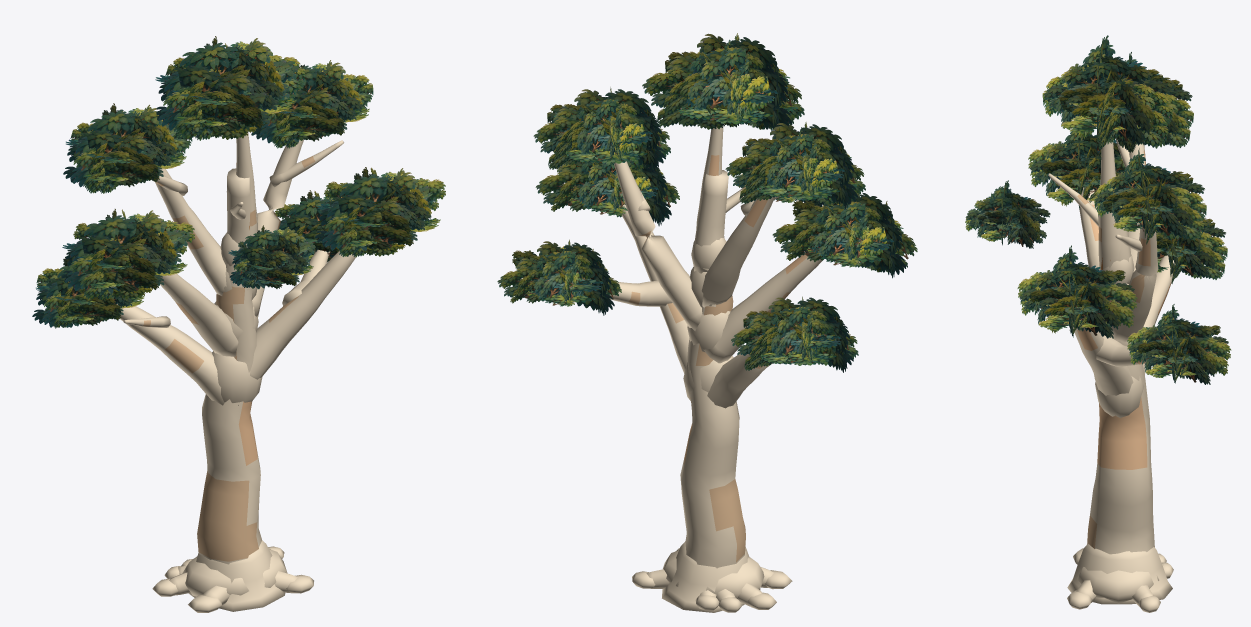
The model's file is TREE_EUCALYPTUS_001_v009_LOD_GAMEPLAY.glb.
3 views of the same model, side by side, from view 1: azimuth 30°, elevation 25°; view 2: azimuth 150°, elevation 25°; view 3: azimuth 270°, elevation 25° (orthographic). The views are drawn at different scales.
Visible parts, largest first — view 1: TREE_EUCALYPTUS_001_GAMEPLAY_AUTHORED_FOLIAGE_ISLANDS, TREE_EUCALYPTUS_001_GAMEPLAY_MAIN_TRUNK, TREE_EUCALYPTUS_001_GAMEPLAY_MID_RIGHT_SWEEP, TREE_EUCALYPTUS_001_GAMEPLAY_LOWER_LEFT_SWEEP, TREE_EUCALYPTUS_001_GAMEPLAY_MID_LEFT_ARCH, TREE_EUCALYPTUS_001_GAMEPLAY_SCULPTED_ROOT_COLLAR, TREE_EUCALYPTUS_001_GAMEPLAY_UPPER_LEFT_FORK, TREE_EUCALYPTUS_001_GAMEPLAY_BROAD_PLANTED_ROOT_MOUND, TREE_EUCALYPTUS_001_GAMEPLAY_UPPER_RIGHT_ARCH, TREE_EUCALYPTUS_001_GAMEPLAY_SCULPTED_FORK_SWELL_0, TREE_EUCALYPTUS_001_GAMEPLAY_CENTRAL_CROWN_FORK, TREE_EUCALYPTUS_001_GAMEPLAY_RIGHT_TOP_SUPPORT (+1 smaller); view 2: TREE_EUCALYPTUS_001_GAMEPLAY_AUTHORED_FOLIAGE_ISLANDS, TREE_EUCALYPTUS_001_GAMEPLAY_MAIN_TRUNK, TREE_EUCALYPTUS_001_GAMEPLAY_UPPER_RIGHT_ARCH, TREE_EUCALYPTUS_001_GAMEPLAY_UPPER_LEFT_FORK, TREE_EUCALYPTUS_001_GAMEPLAY_MID_LEFT_ARCH, TREE_EUCALYPTUS_001_GAMEPLAY_SCULPTED_ROOT_COLLAR, TREE_EUCALYPTUS_001_GAMEPLAY_LOWER_LEFT_SWEEP, TREE_EUCALYPTUS_001_GAMEPLAY_MID_RIGHT_SWEEP, TREE_EUCALYPTUS_001_GAMEPLAY_BROAD_PLANTED_ROOT_MOUND, TREE_EUCALYPTUS_001_GAMEPLAY_LOWER_RIGHT_REACH, TREE_EUCALYPTUS_001_GAMEPLAY_SCULPTED_FORK_SWELL_1, TREE_EUCALYPTUS_001_GAMEPLAY_CENTRAL_CROWN_FORK (+2 smaller); view 3: TREE_EUCALYPTUS_001_GAMEPLAY_AUTHORED_FOLIAGE_ISLANDS, TREE_EUCALYPTUS_001_GAMEPLAY_MAIN_TRUNK, TREE_EUCALYPTUS_001_GAMEPLAY_SCULPTED_ROOT_COLLAR, TREE_EUCALYPTUS_001_GAMEPLAY_UPPER_RIGHT_ARCH, TREE_EUCALYPTUS_001_GAMEPLAY_MID_RIGHT_SWEEP, TREE_EUCALYPTUS_001_GAMEPLAY_BROAD_PLANTED_ROOT_MOUND, TREE_EUCALYPTUS_001_GAMEPLAY_CENTRAL_CROWN_FORK, TREE_EUCALYPTUS_001_GAMEPLAY_SCULPTED_FORK_SWELL_0, TREE_EUCALYPTUS_001_GAMEPLAY_LOWER_LEFT_SWEEP, TREE_EUCALYPTUS_001_GAMEPLAY_MID_LEFT_ARCH, TREE_EUCALYPTUS_001_GAMEPLAY_LOWER_RIGHT_REACH, TREE_EUCALYPTUS_001_GAMEPLAY_CENTRE_BACK_SUPPORT (+2 smaller).
Part boxes in pixels (<box>): TREE_EUCALYPTUS_001_GAMEPLAY_AUTHORED_FOLIAGE_ISLANDS: <box>32,36,445,328</box>; TREE_EUCALYPTUS_001_GAMEPLAY_MAIN_TRUNK: <box>197,168,261,564</box>; TREE_EUCALYPTUS_001_GAMEPLAY_MID_RIGHT_SWEEP: <box>250,250,355,379</box>; TREE_EUCALYPTUS_001_GAMEPLAY_LOWER_LEFT_SWEEP: <box>117,304,238,405</box>; TREE_EUCALYPTUS_001_GAMEPLAY_MID_LEFT_ARCH: <box>160,273,238,356</box>; TREE_EUCALYPTUS_001_GAMEPLAY_SCULPTED_ROOT_COLLAR: <box>189,540,285,611</box>; TREE_EUCALYPTUS_001_GAMEPLAY_UPPER_LEFT_FORK: <box>155,168,226,295</box>; TREE_EUCALYPTUS_001_GAMEPLAY_BROAD_PLANTED_ROOT_MOUND: <box>182,549,287,596</box>; TREE_EUCALYPTUS_001_GAMEPLAY_UPPER_RIGHT_ARCH: <box>252,139,304,316</box>; TREE_EUCALYPTUS_001_GAMEPLAY_SCULPTED_FORK_SWELL_0: <box>212,351,262,402</box>; TREE_EUCALYPTUS_001_GAMEPLAY_CENTRAL_CROWN_FORK: <box>236,133,257,247</box>; TREE_EUCALYPTUS_001_GAMEPLAY_RIGHT_TOP_SUPPORT: <box>269,140,343,187</box>; TREE_EUCALYPTUS_001_GAMEPLAY_AUTHORED_FOLIAGE_ISLANDS: <box>497,33,917,372</box>; TREE_EUCALYPTUS_001_GAMEPLAY_MAIN_TRUNK: <box>680,170,745,568</box>; TREE_EUCALYPTUS_001_GAMEPLAY_UPPER_RIGHT_ARCH: <box>611,147,702,330</box>; TREE_EUCALYPTUS_001_GAMEPLAY_UPPER_LEFT_FORK: <box>701,197,774,307</box>; TREE_EUCALYPTUS_001_GAMEPLAY_MID_LEFT_ARCH: <box>703,252,822,363</box>; TREE_EUCALYPTUS_001_GAMEPLAY_SCULPTED_ROOT_COLLAR: <box>662,541,760,612</box>; TREE_EUCALYPTUS_001_GAMEPLAY_LOWER_LEFT_SWEEP: <box>707,353,772,408</box>; TREE_EUCALYPTUS_001_GAMEPLAY_MID_RIGHT_SWEEP: <box>614,200,689,373</box>; TREE_EUCALYPTUS_001_GAMEPLAY_BROAD_PLANTED_ROOT_MOUND: <box>663,550,764,598</box>; TREE_EUCALYPTUS_001_GAMEPLAY_LOWER_RIGHT_REACH: <box>609,281,672,306</box>; TREE_EUCALYPTUS_001_GAMEPLAY_SCULPTED_FORK_SWELL_1: <box>687,311,730,351</box>; TREE_EUCALYPTUS_001_GAMEPLAY_CENTRAL_CROWN_FORK: <box>694,126,723,273</box>; TREE_EUCALYPTUS_001_GAMEPLAY_AUTHORED_FOLIAGE_ISLANDS: <box>965,35,1231,384</box>; TREE_EUCALYPTUS_001_GAMEPLAY_MAIN_TRUNK: <box>1087,193,1154,554</box>; TREE_EUCALYPTUS_001_GAMEPLAY_SCULPTED_ROOT_COLLAR: <box>1067,544,1172,604</box>; TREE_EUCALYPTUS_001_GAMEPLAY_UPPER_RIGHT_ARCH: <box>1110,226,1158,342</box>; TREE_EUCALYPTUS_001_GAMEPLAY_MID_RIGHT_SWEEP: <box>1073,327,1133,395</box>; TREE_EUCALYPTUS_001_GAMEPLAY_BROAD_PLANTED_ROOT_MOUND: <box>1077,567,1159,603</box>; TREE_EUCALYPTUS_001_GAMEPLAY_CENTRAL_CROWN_FORK: <box>1098,141,1130,284</box>; TREE_EUCALYPTUS_001_GAMEPLAY_SCULPTED_FORK_SWELL_0: <box>1095,376,1144,417</box>; TREE_EUCALYPTUS_001_GAMEPLAY_LOWER_LEFT_SWEEP: <box>1143,255,1177,375</box>; TREE_EUCALYPTUS_001_GAMEPLAY_MID_LEFT_ARCH: <box>1079,187,1099,269</box>; TREE_EUCALYPTUS_001_GAMEPLAY_LOWER_RIGHT_REACH: <box>1096,332,1155,366</box>; TREE_EUCALYPTUS_001_GAMEPLAY_CENTRE_BACK_SUPPORT: <box>1048,173,1098,226</box>.
Size of the model in its own units: 10.07 by 13.98 by 6.57.
Materials: 5 (1 with a texture image).
